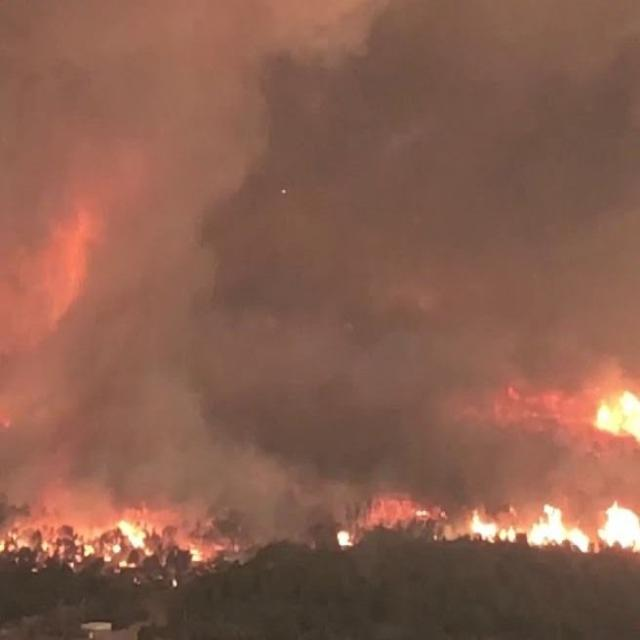Fire: (0, 368, 640, 557)
Smoke: (0, 0, 640, 526)
